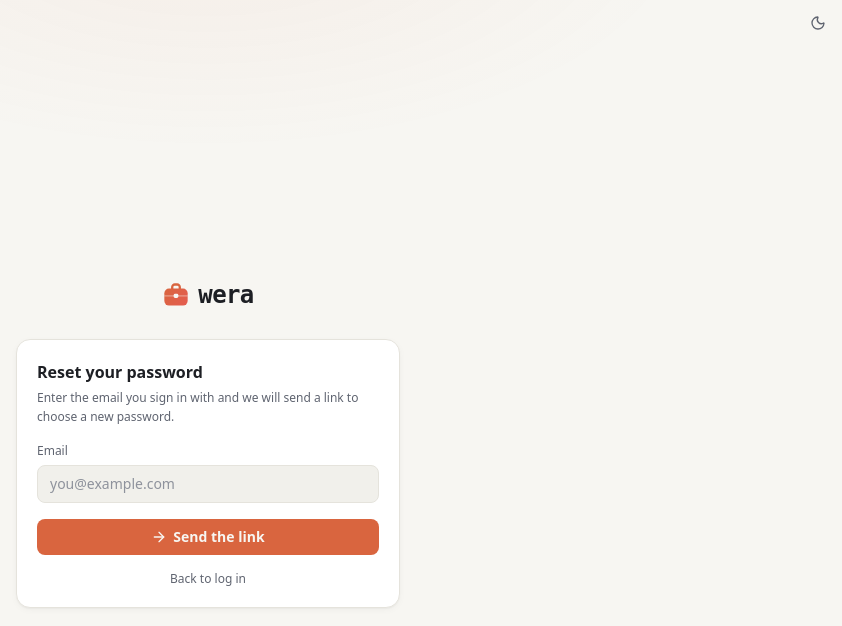
account email pages › asks for a reset link without revealing accounts
In the field labelled "Email": (208, 484) [37,464,379,502], type "ada@example.com"
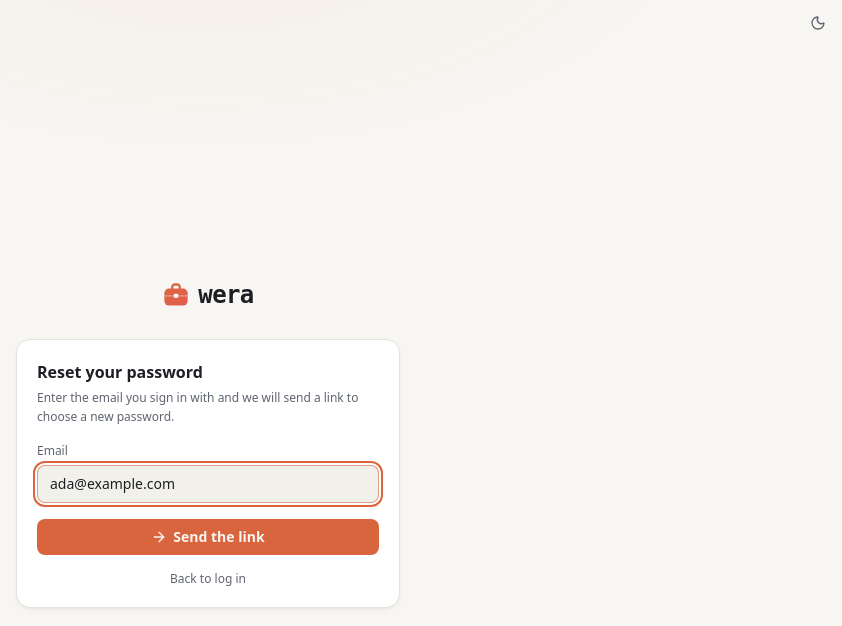
Click the button "Send the link": (208, 536) [37,518,379,554]
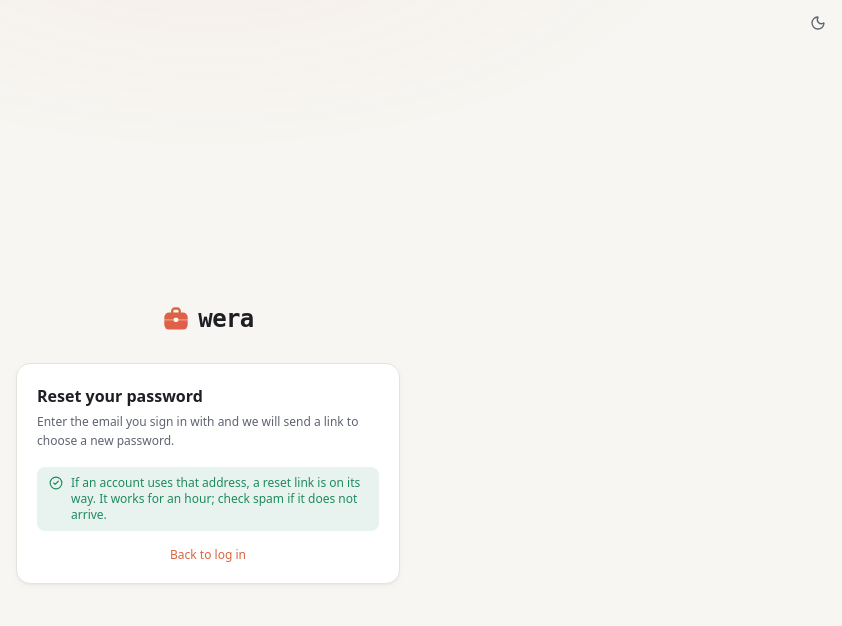
Check: the text "a reset link is on its way" is shown, box [71,474,360,506]
